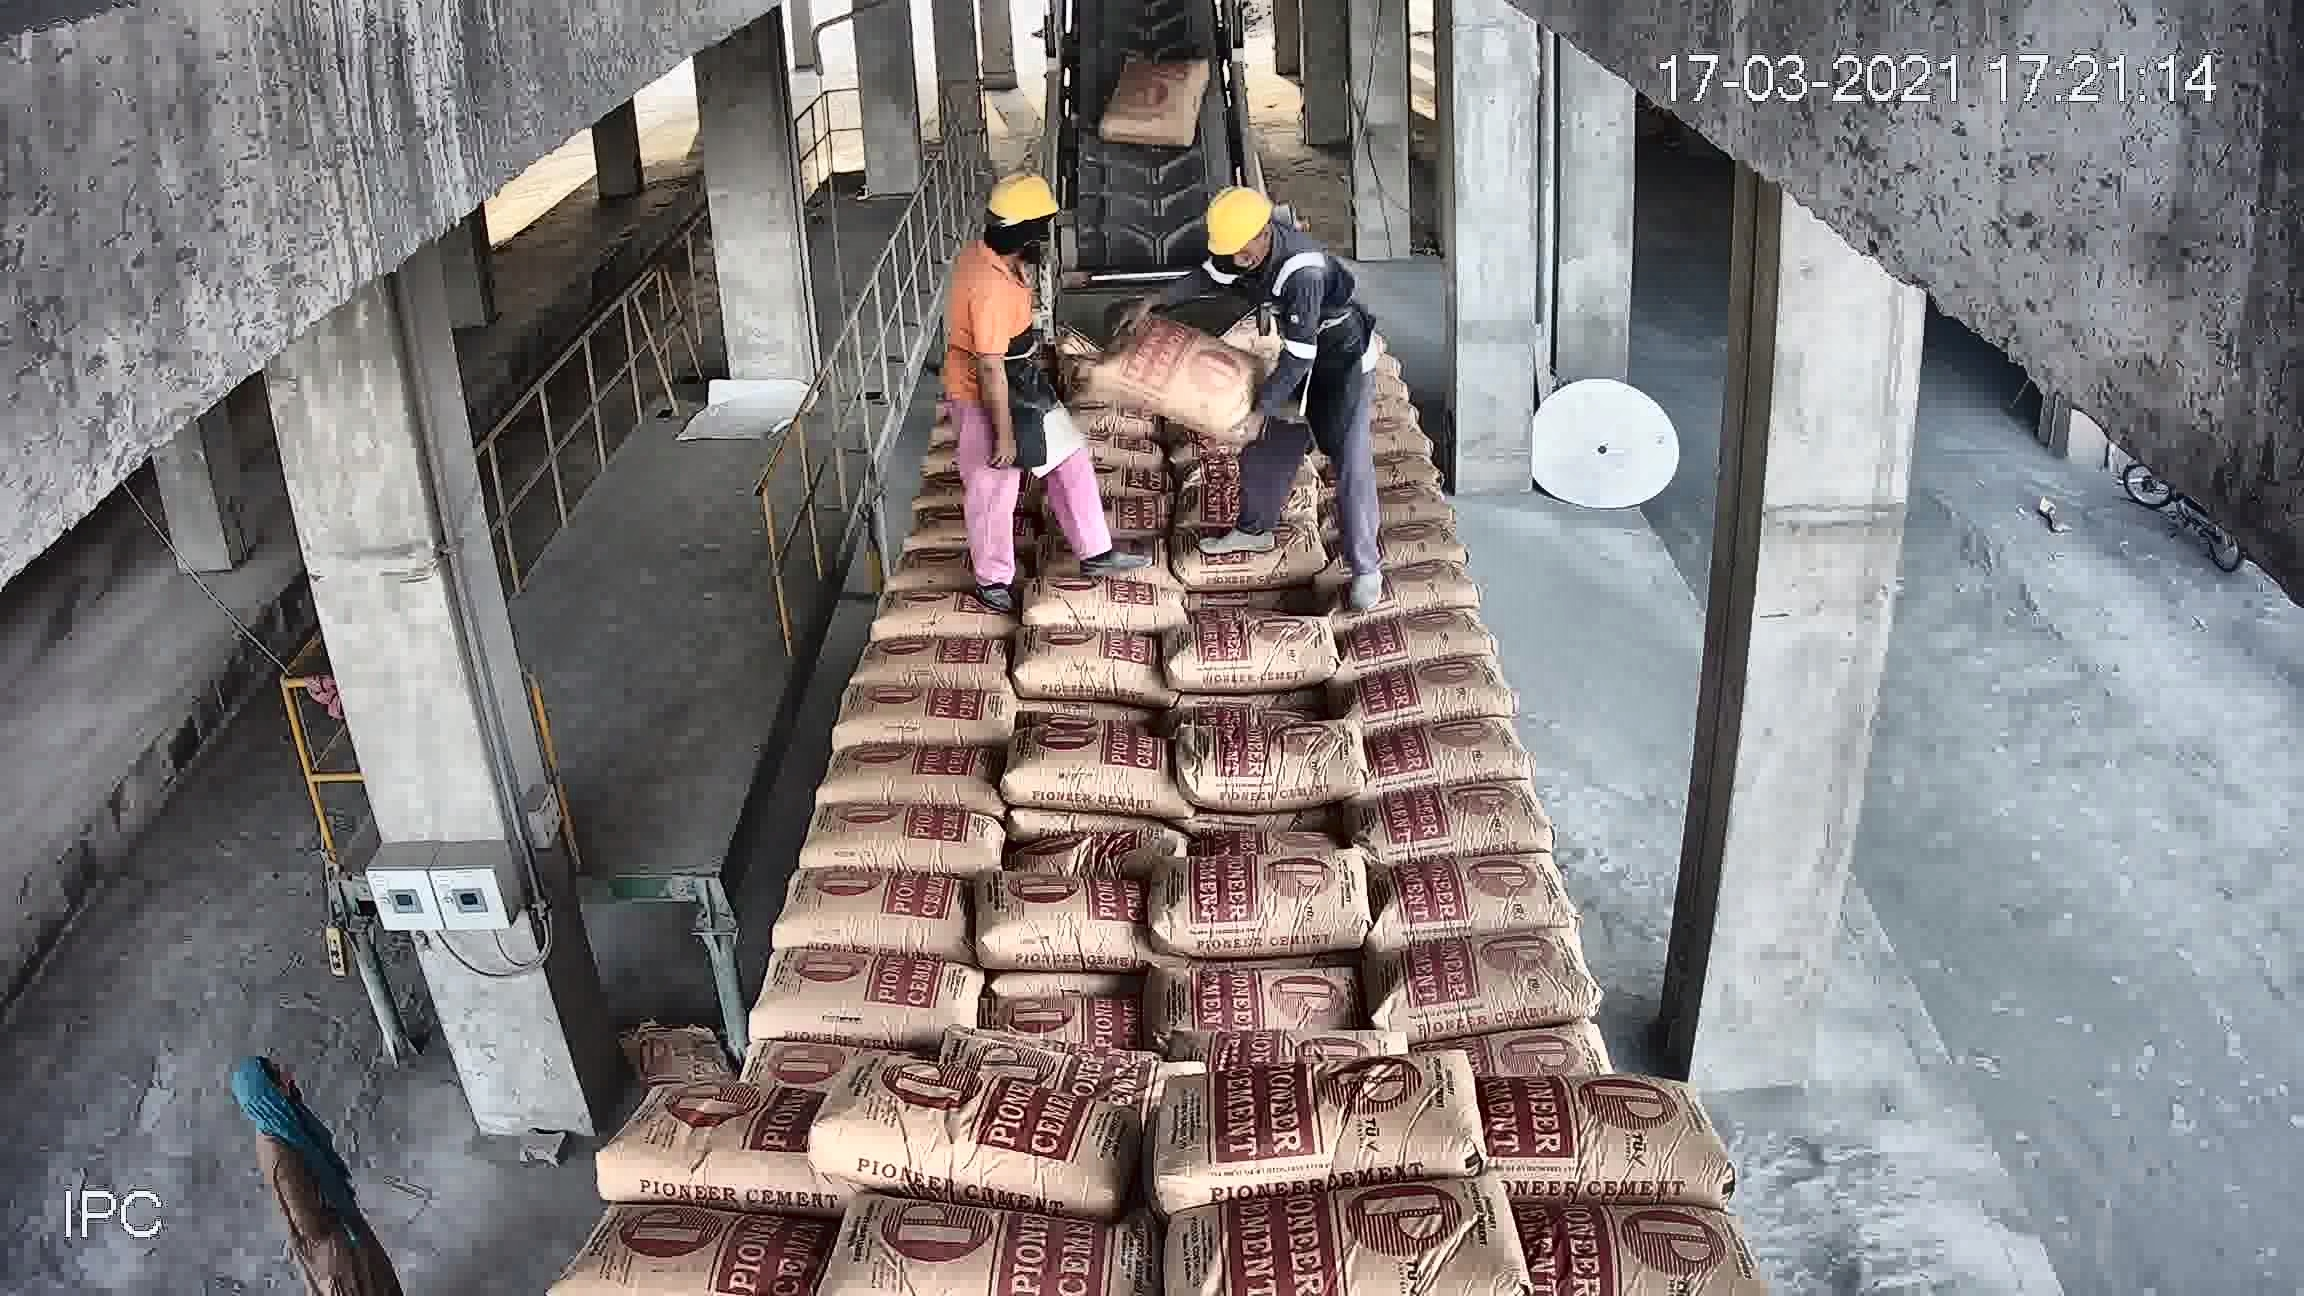bag_h: (1155, 1032, 1478, 1212), (1131, 921, 1446, 1070), (802, 1082, 1146, 1211), (1160, 1180, 1533, 1296), (881, 943, 1138, 1086), (1489, 1065, 1749, 1203), (1434, 949, 1685, 1084), (1139, 715, 1388, 851), (1146, 836, 1419, 957), (635, 968, 870, 1081), (1415, 862, 1654, 972), (888, 764, 1135, 869), (570, 1082, 805, 1192), (1480, 1185, 1761, 1274), (1380, 756, 1601, 869), (869, 862, 1138, 953), (695, 782, 911, 881), (766, 1203, 1135, 1250), (544, 1211, 813, 1274), (687, 869, 902, 945), (733, 725, 919, 791), (840, 612, 980, 692), (812, 677, 994, 733), (1364, 593, 1487, 668), (1391, 658, 1505, 725), (859, 582, 970, 649), (1400, 718, 1524, 777), (1381, 548, 1473, 625), (1168, 548, 1244, 638), (1078, 578, 1177, 639), (1169, 631, 1237, 684)
belt: (1027, 0, 1288, 521)
